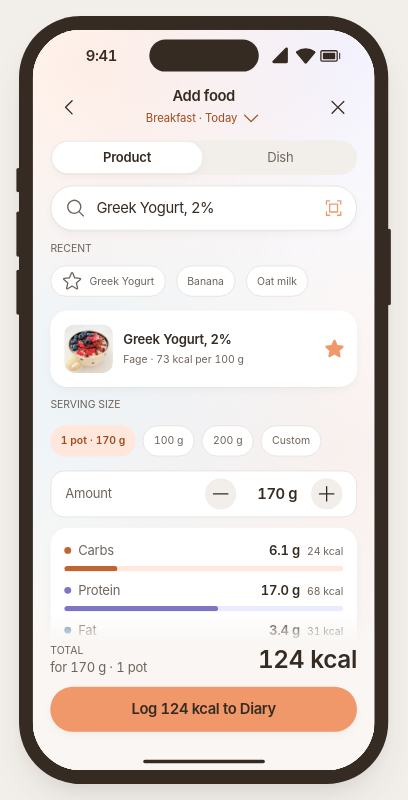
it: ProductScreen › opens on the label serving and recomputes from presets and a typed amount
Expected: the radio button labelled "1 pot · 170 g" is checked, [51,425,136,456]
Expected: the text "for 170 g · 1 pot" is shown, [51,659,148,676]
Click the radio button labelled "100 g".
click(169, 441)  # box [143,425,195,456]
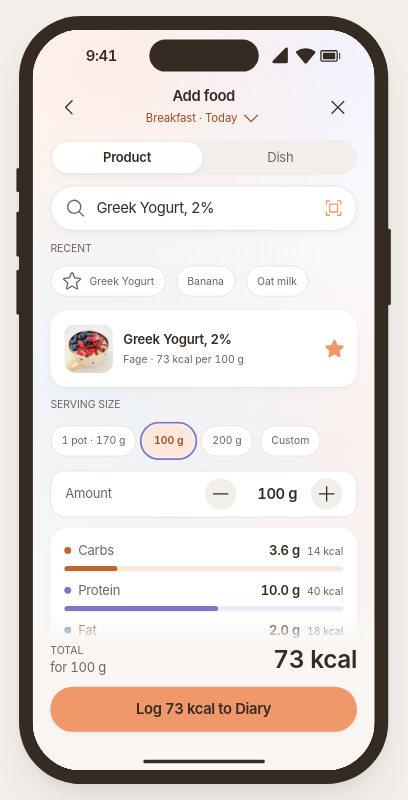
Expected: the button "Log 73 kcal to Diary" is shown, [51,687,357,732]
Replace the text in the field named "Amount in grams" with "150" at point(268, 494), box [250,484,285,503]
Then press Enter
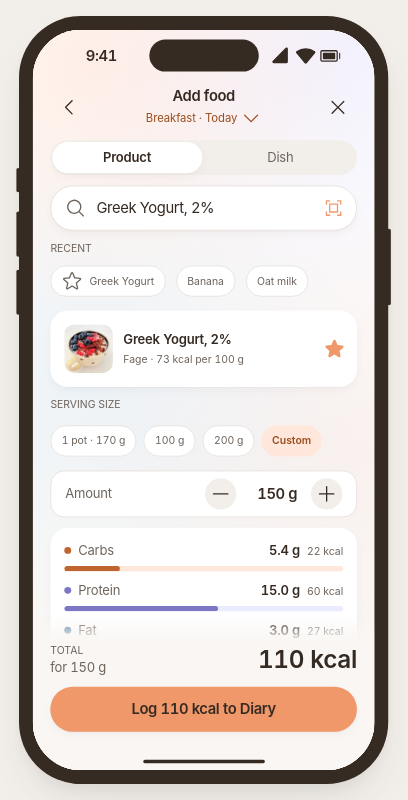
Expected: the button "Log 110 kcal to Diary" is shown, [51,687,357,732]
Expected: the radio button labelled "Custom" is checked, [262,425,322,456]
Expected: the text "15.0 g" is shown, [261,582,300,599]
